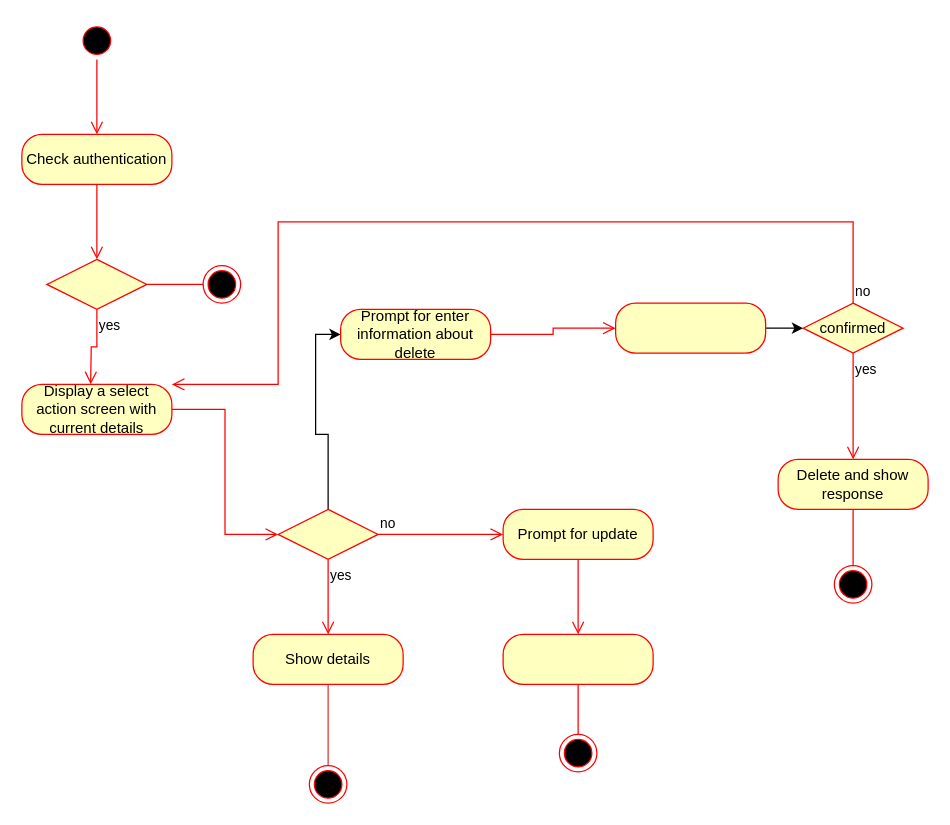
The diagram is 950 pixels wide and 825 high, and some of its shapes have lost their labels. The shapes that lost their labels are listed below. From the top down, each one's box as (x1, y1, x2, y2) in pixels, then its label:
(46, 258, 147, 309): Authenticated
(614, 302, 766, 353): Confirm
(277, 508, 378, 559): Action
(502, 633, 653, 684): Update and return response
